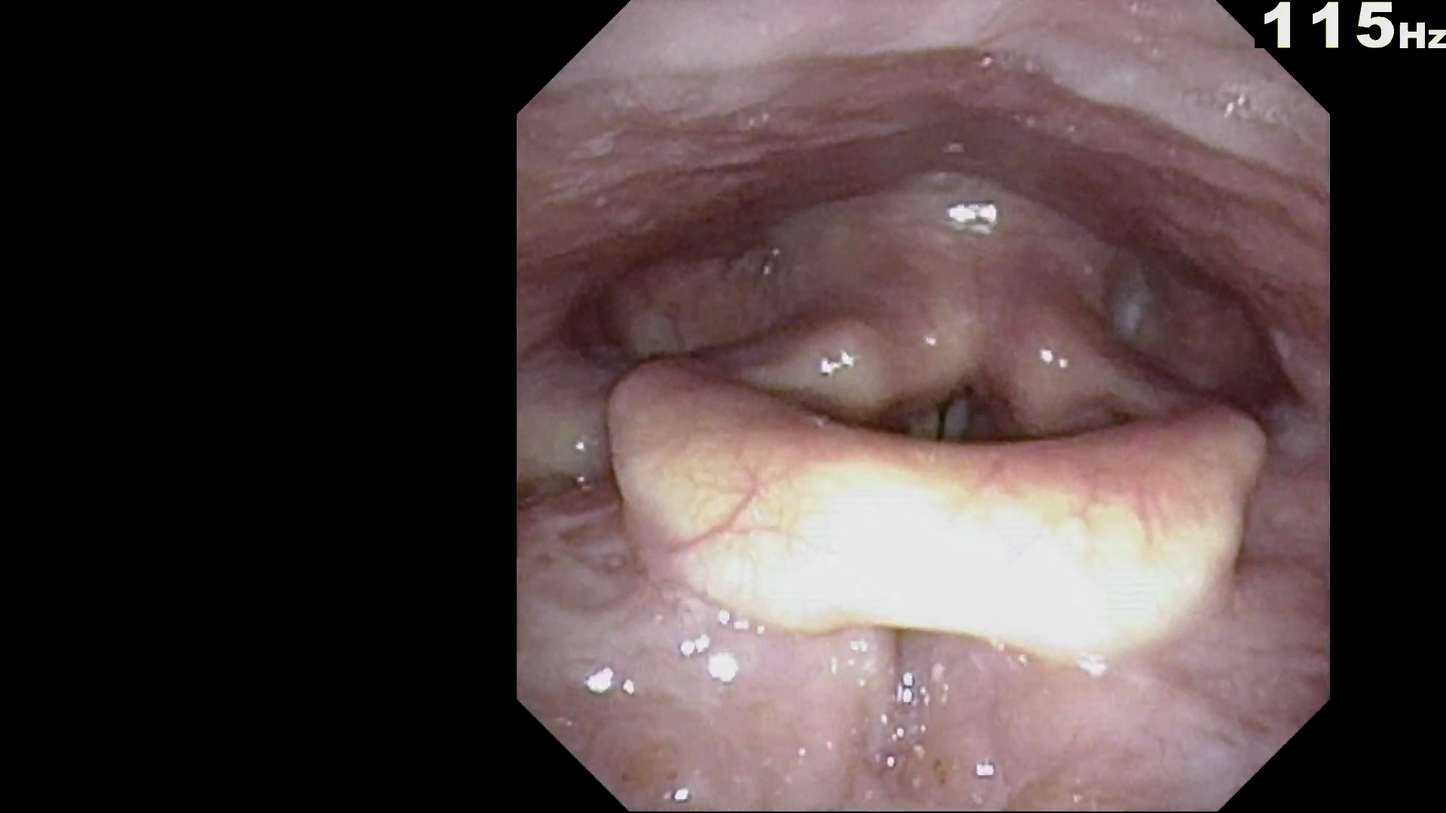epiglottis: (589, 344, 1279, 672)
trachea: (862, 305, 1041, 530)
